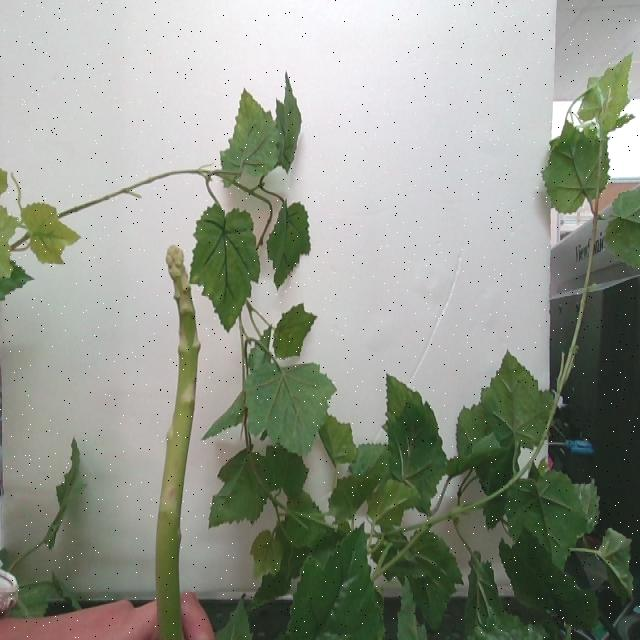aspargus: (153, 248, 200, 640)
